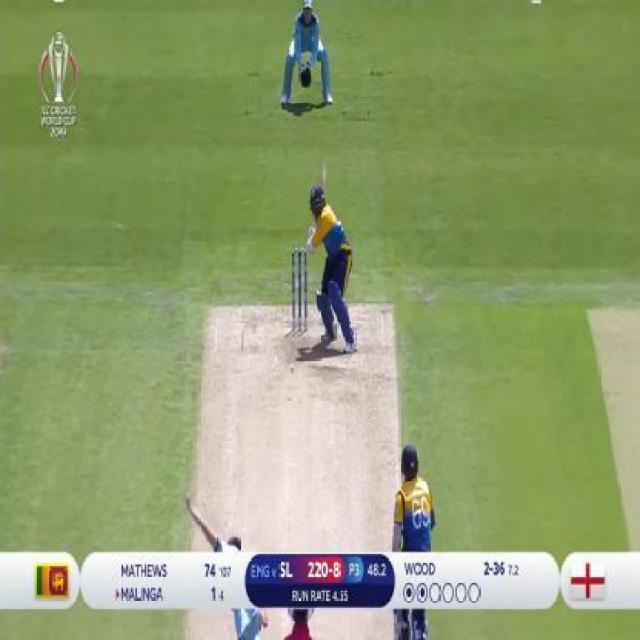Cricket ball: (288, 363, 298, 374)
